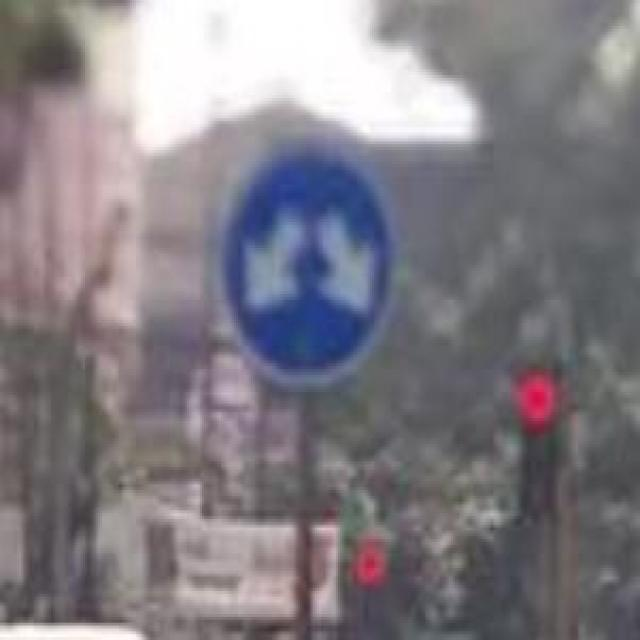traffic sign: (215, 144, 398, 392)
